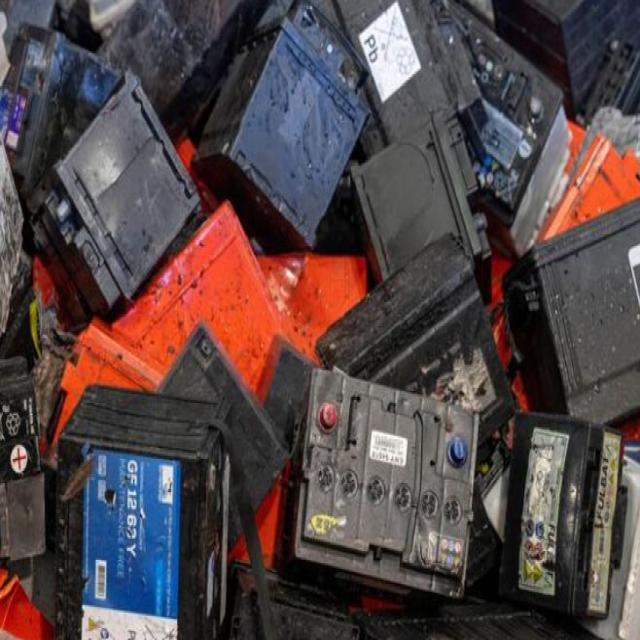electronic: (38, 332, 283, 640)
